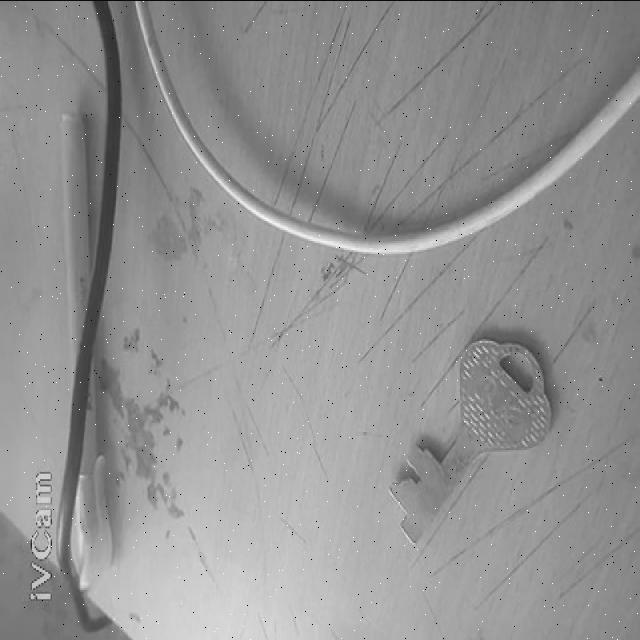key: (391, 338, 553, 544)
